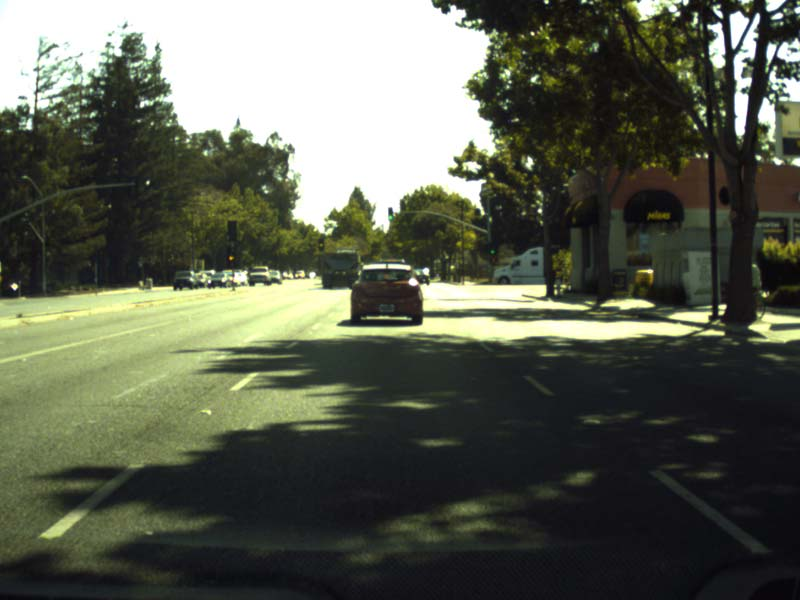Green: (487, 241, 496, 256), (387, 208, 393, 220)
Yellow: (225, 244, 238, 267), (317, 237, 324, 249)
